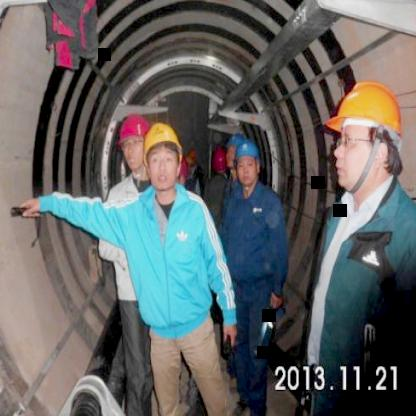helmet: (326, 72, 406, 200), (140, 115, 185, 194), (117, 112, 151, 172), (231, 131, 263, 188), (224, 136, 246, 171), (210, 144, 226, 180)
